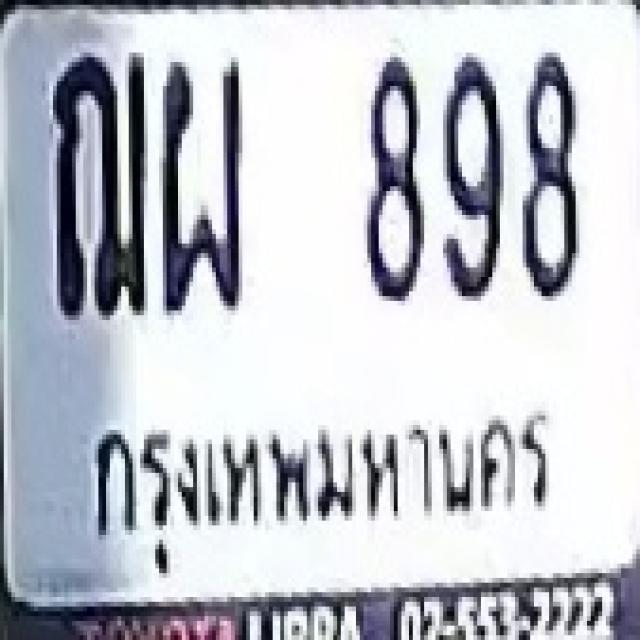-: (51, 53, 146, 315), (157, 55, 244, 313), (157, 79, 244, 313)
8: (519, 48, 579, 301), (364, 52, 424, 301)
9: (441, 52, 502, 301)
BKK: (70, 402, 558, 580)
